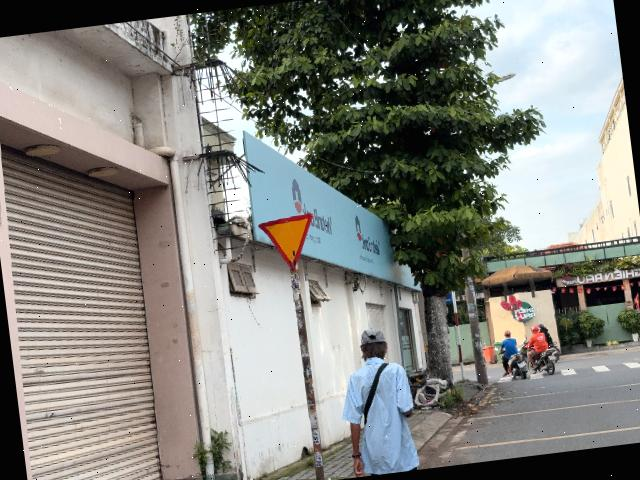giao-nhau-voi-duong-uu-tien: (257, 212, 319, 273)
